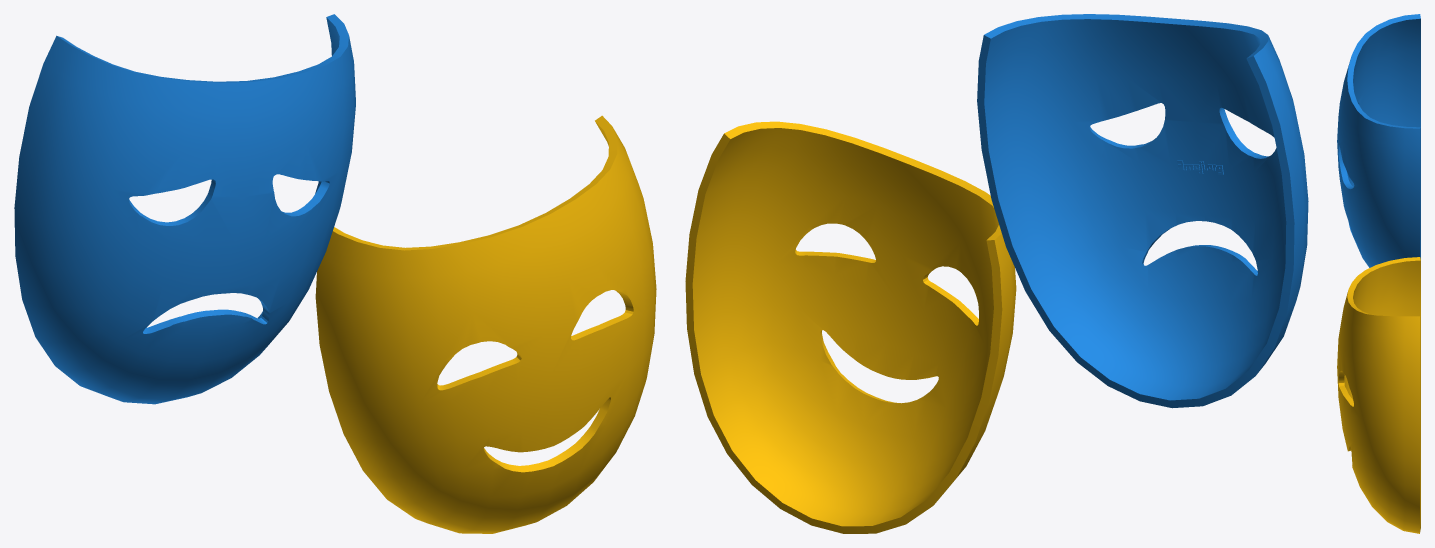
Rendered from performing_arts.gltf.
The picture shows the model from 3 angles, left to right: view 1: azimuth 30°, elevation 25°; view 2: azimuth 150°, elevation 25°; view 3: azimuth 270°, elevation 25°; orthographic projection. The views are drawn at different scales.
Parts seen in each view (by area): view 1: Cube.908; view 2: Cube.908; view 3: Cube.908.
Boxes of the visible parts, x1=… form: Cube.908: x1=14, y1=14, x2=656, y2=533; Cube.908: x1=685, y1=14, x2=1308, y2=533; Cube.908: x1=1337, y1=14, x2=1420, y2=533.
Size of the model in its own units: 2.34 by 2.12 by 0.4291.
Materials: 1 (1 with a texture image).
